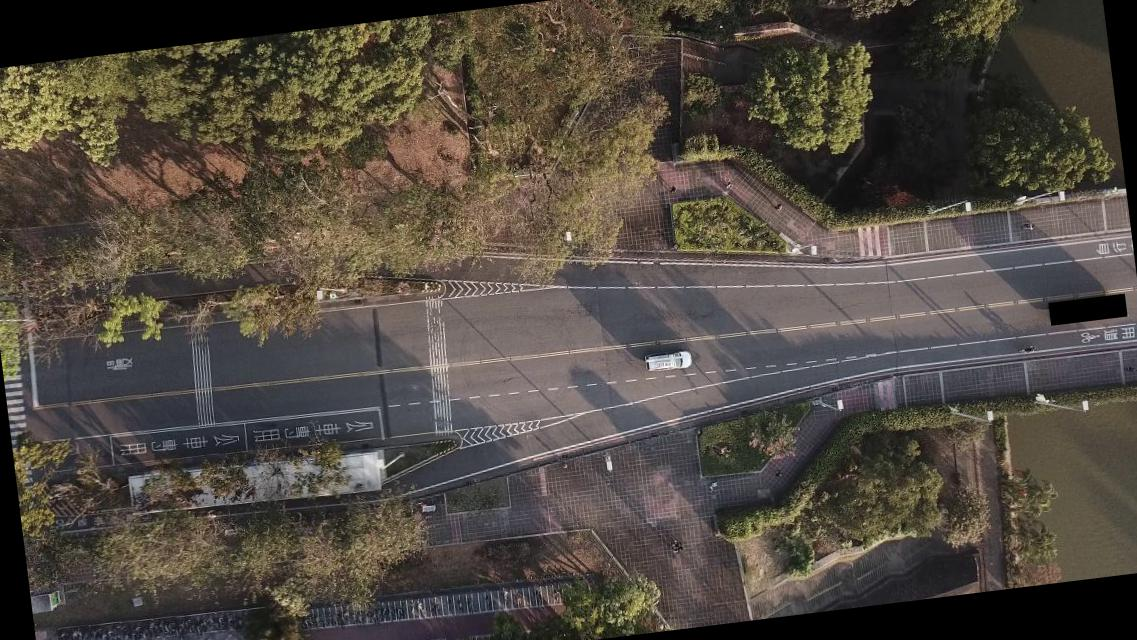vehicle: (641, 349, 692, 374)
